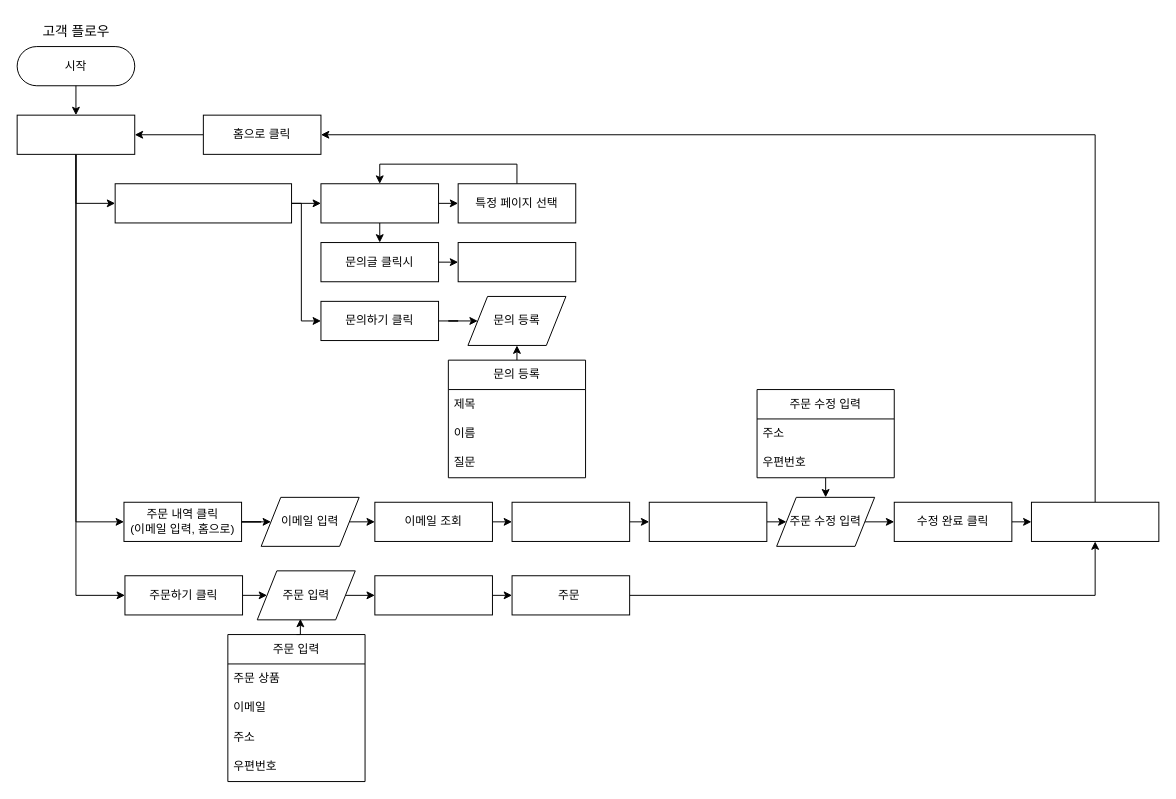
Image size: 1176x799. Some labels were removed from this diagram. Here are the shapes that lost their labels. From the top down, the centre of each, then its label:
At (x=75, y=134): "전체 제품 페이지 표시 (문의 게시판, 주문 내역, 주문하기)".
At (x=203, y=203): "문의 게시판 클릭 (문의글, 문의하기, 홈으로)".
At (x=379, y=203): "특정 페이지의 문의 목록 조회".
At (x=516, y=262): "문의 상세 페이지 조회".
At (x=570, y=521): "주문 내역 조회 (수정, 취소)".
At (x=707, y=521): "주문 수정 클릭".
At (x=1094, y=521): "완료 페이지 조회".
At (x=433, y=595): "결제하기 클릭".
